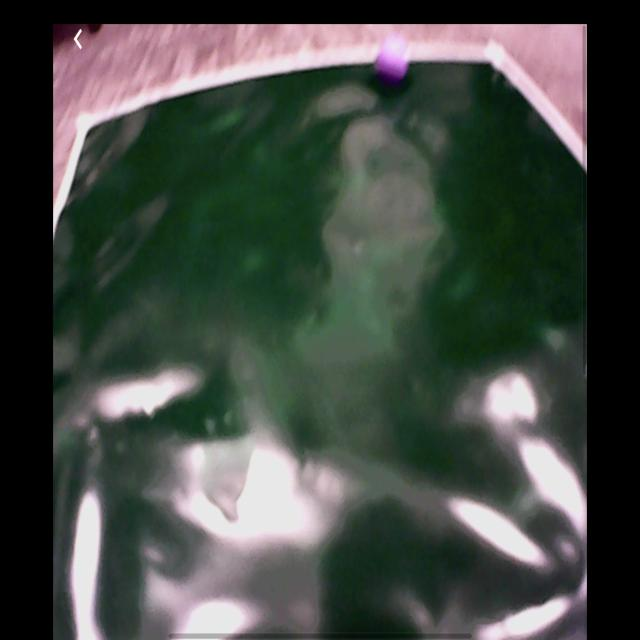ball: (374, 38, 413, 87)
